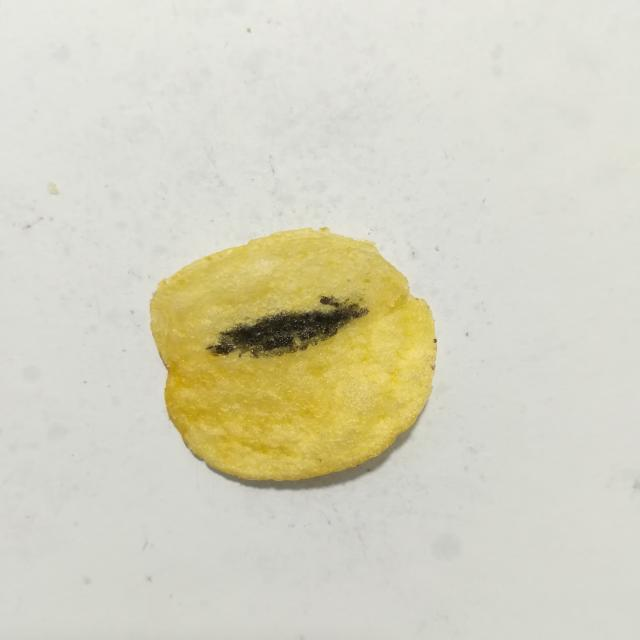chip: (150, 228, 436, 481)
damaged: (207, 296, 369, 357)
